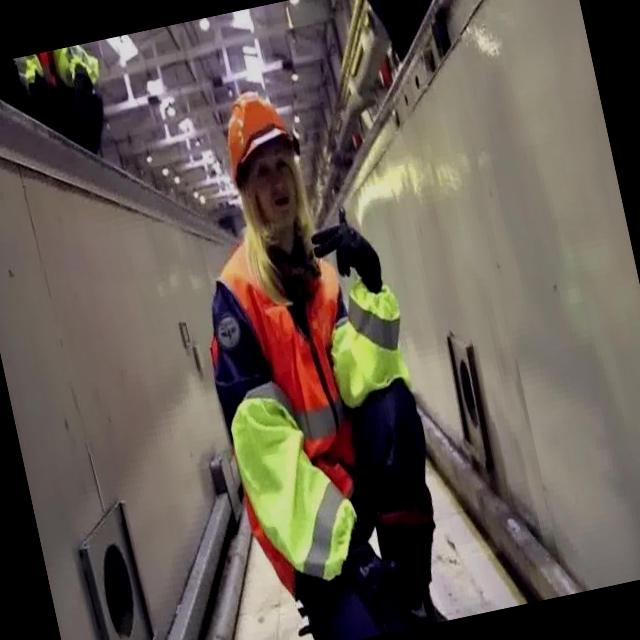vest: (209, 208, 382, 520), (226, 378, 372, 594), (316, 278, 416, 405)
